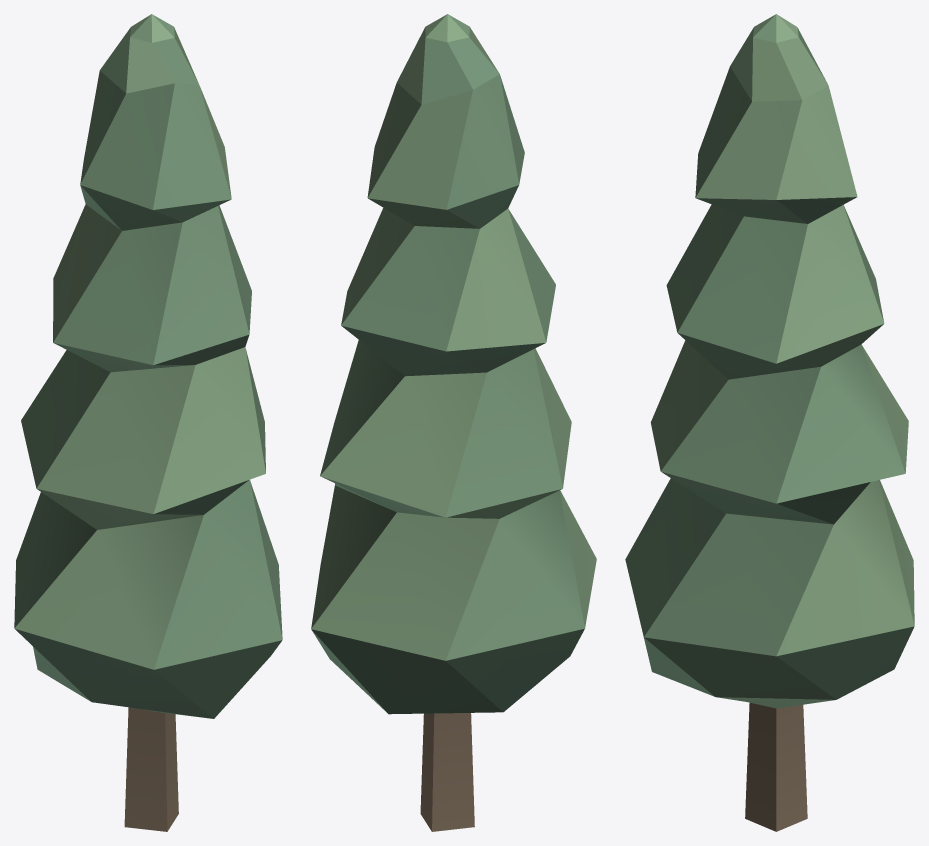
The model's file is shrub.lod1.glb.
The picture shows the model from 3 angles, left to right: view 1: azimuth 30°, elevation 25°; view 2: azimuth 150°, elevation 25°; view 3: azimuth 270°, elevation 25°; orthographic projection.
Bounding box in the file's own units: 1.07 × 3.12 × 1.02.
